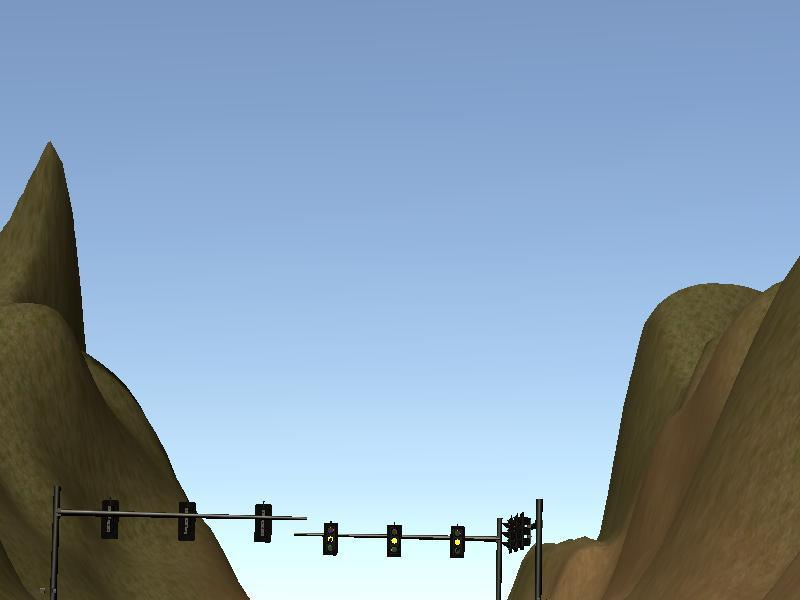Yellow: (323, 524, 338, 555), (450, 527, 465, 558), (387, 525, 400, 558)
